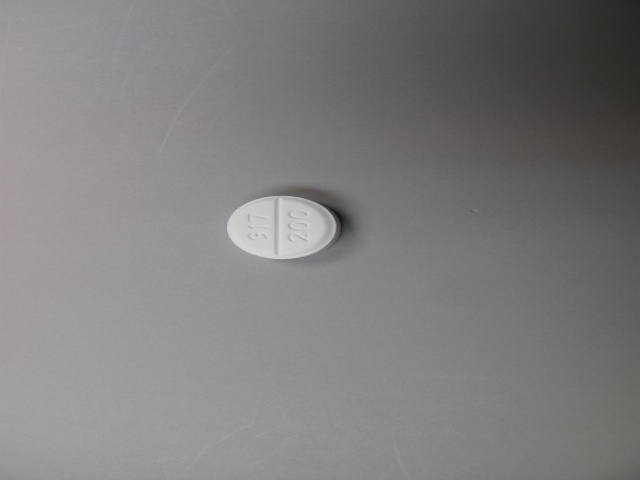0: (288, 219, 309, 232), (288, 209, 309, 218)
1: (246, 223, 269, 232)
2: (286, 232, 309, 245)
7: (246, 211, 268, 223)
9: (247, 232, 268, 242)
|: (270, 192, 283, 261)
